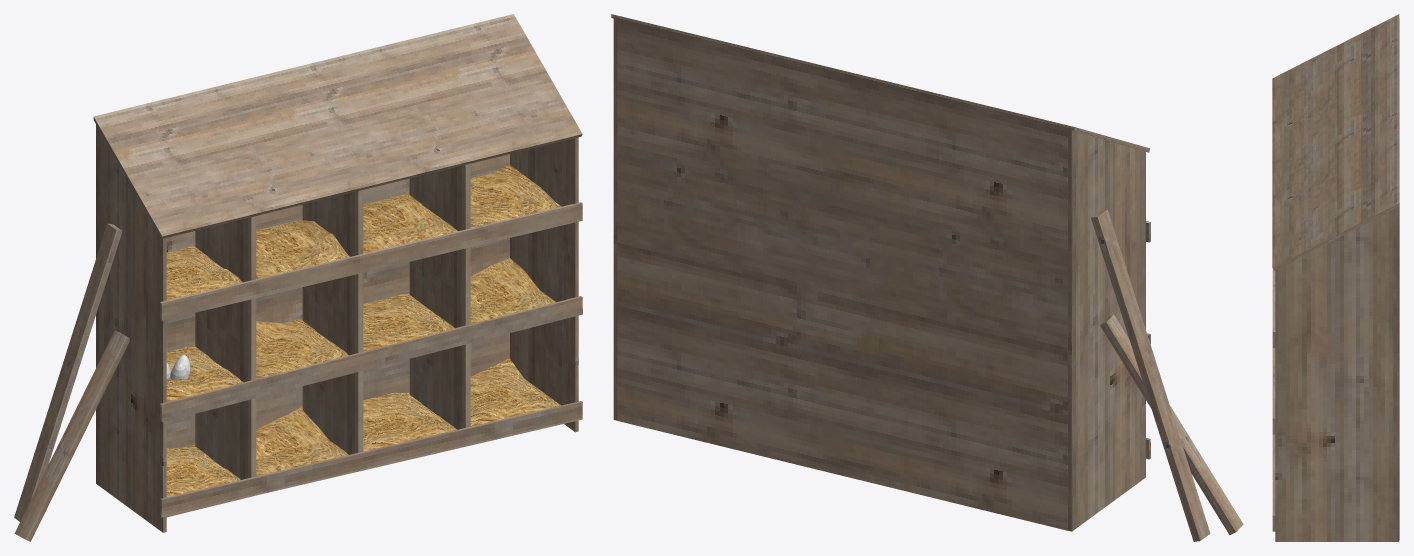
The model's file is ChickenCoop.fbx.
The picture shows the model from 3 angles, left to right: view 1: azimuth 30°, elevation 25°; view 2: azimuth 150°, elevation 25°; view 3: azimuth 270°, elevation 25°; orthographic projection. The views are drawn at different scales.
Parts seen in each view (by area): view 1: ChickenCoop; view 2: ChickenCoop; view 3: ChickenCoop.
Part boxes in pixels (bbox=[...]): ChickenCoop: bbox=[14, 14, 582, 541]; ChickenCoop: bbox=[611, 14, 1243, 541]; ChickenCoop: bbox=[1272, 14, 1399, 541].
Bounding box in the file's own units: 201 × 133 × 45.01.
